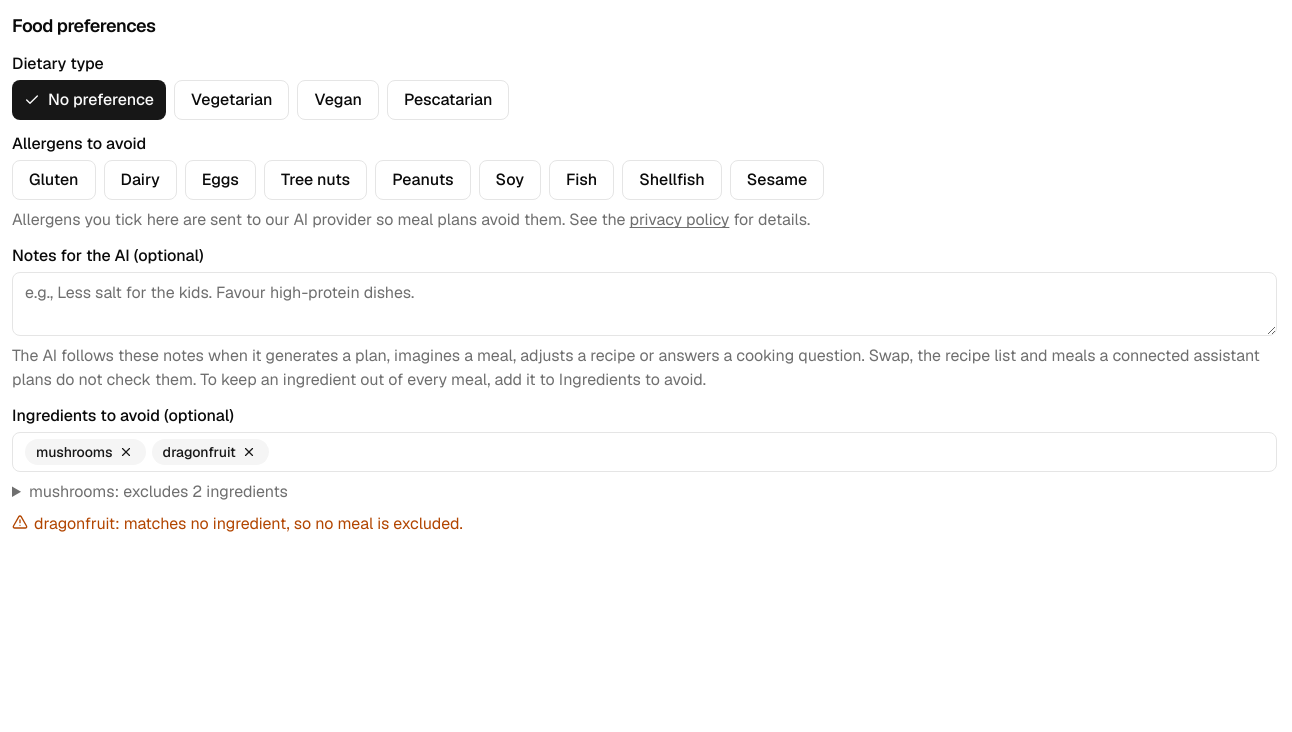
Test: FoodPreferencesForm field help › what each ingredient to avoid excludes › counts the matches of a tag and names them in a disclosure
Expected: the text "chestnut mushroom, mushroom" is not shown
Click the heading "mushrooms: excludes 2 ingredients".
click(158, 492)  # box [29,481,288,502]
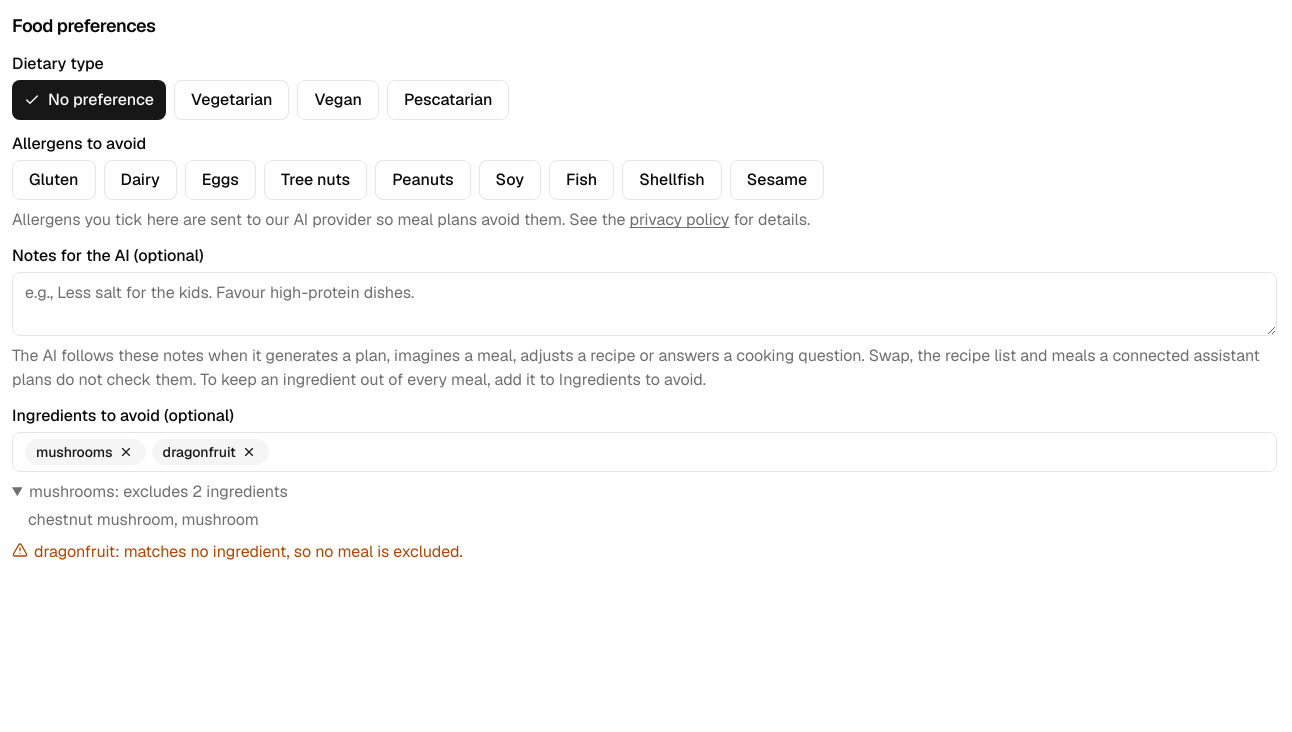
Expected: the text "chestnut mushroom, mushroom" is shown, [28,509,259,530]
